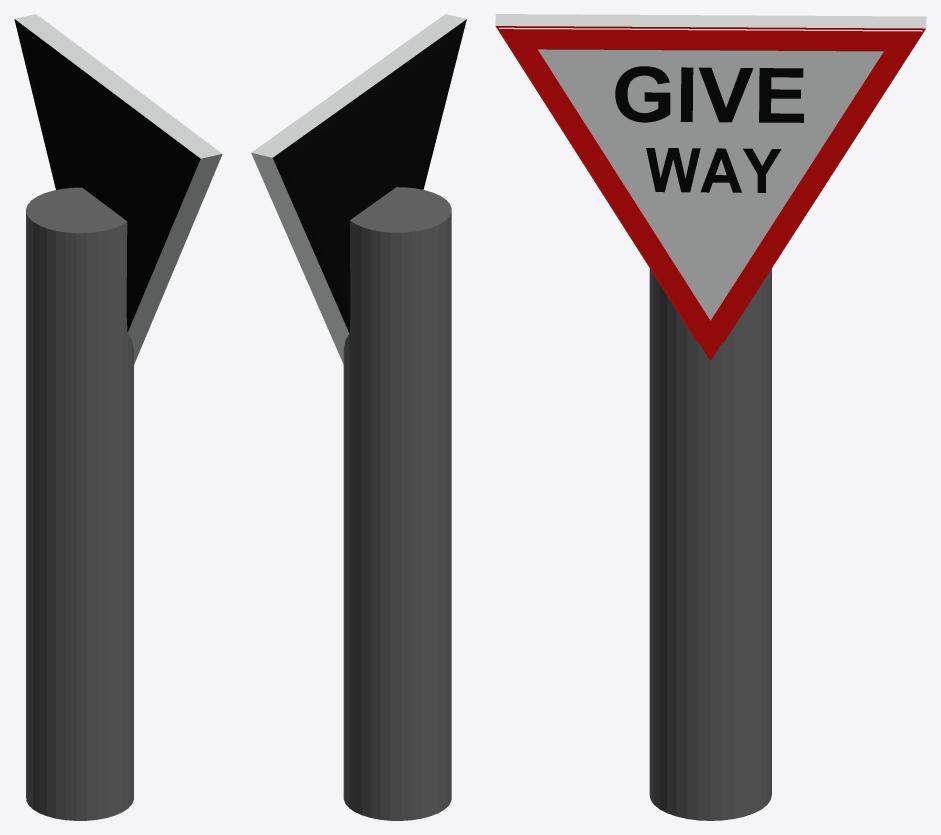
Rendered from uk_give_way(updated).fbx.
3 views of the same model, side by side, from view 1: azimuth 30°, elevation 25°; view 2: azimuth 150°, elevation 25°; view 3: azimuth 270°, elevation 25° (orthographic). The views are drawn at different scales.
Parts seen in each view (by area): view 1: Cylinder, Circle; view 2: Cylinder, Circle; view 3: Circle, Cylinder, Text, Text.001.
Part boxes in pixels (<box>): Cylinder: <box>26,187,133,820</box>; Circle: <box>14,14,222,364</box>; Cylinder: <box>343,187,451,820</box>; Circle: <box>251,14,466,363</box>; Circle: <box>495,14,926,360</box>; Cylinder: <box>649,268,771,820</box>; Text: <box>615,66,803,122</box>; Text.001: <box>646,148,781,192</box>.
Size of the model in its own units: 2.13 by 14.35 by 7.05.
